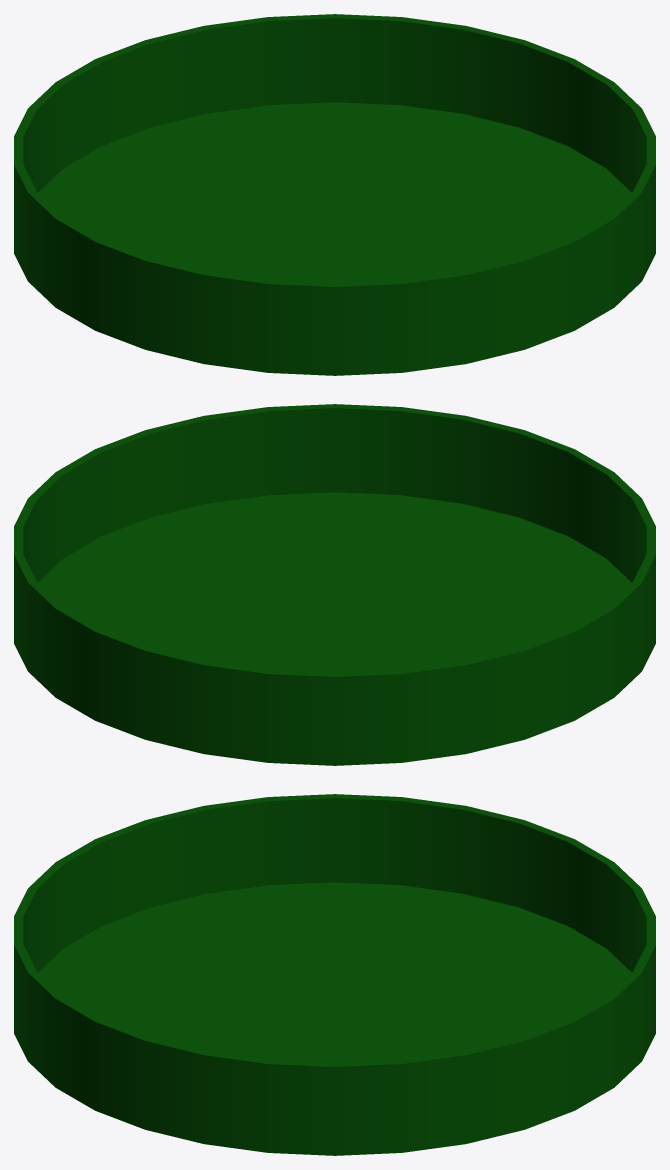
File: Petri_Dish.fbx
The picture shows the model from 3 angles, top to bottom: view 1: azimuth 30°, elevation 25°; view 2: azimuth 150°, elevation 25°; view 3: azimuth 270°, elevation 25°; orthographic projection.
Parts seen in each view (by area): view 1: Petri_Dish; view 2: Petri_Dish; view 3: Petri_Dish.
Part boxes in pixels (x1,y1,x2,y2): Petri_Dish: (14, 14, 655, 375); Petri_Dish: (14, 404, 655, 765); Petri_Dish: (14, 794, 655, 1155).
Bounding box in the file's own units: 302 × 45.96 × 300.
